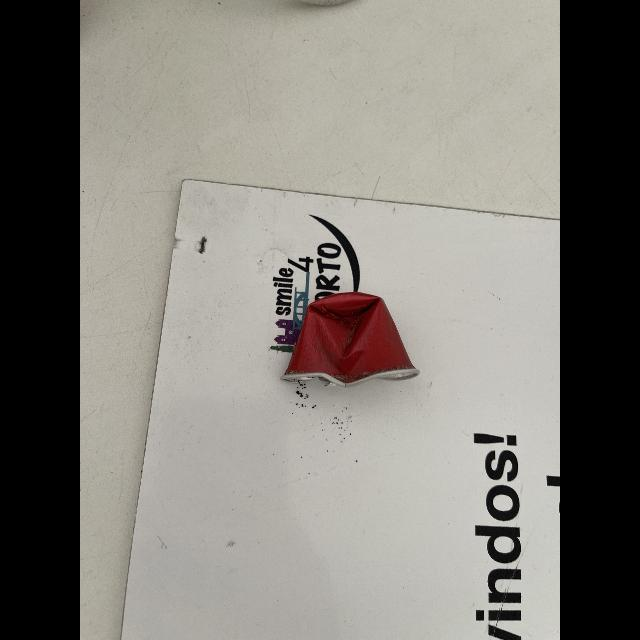damaged_capsule: (277, 288, 425, 392)
